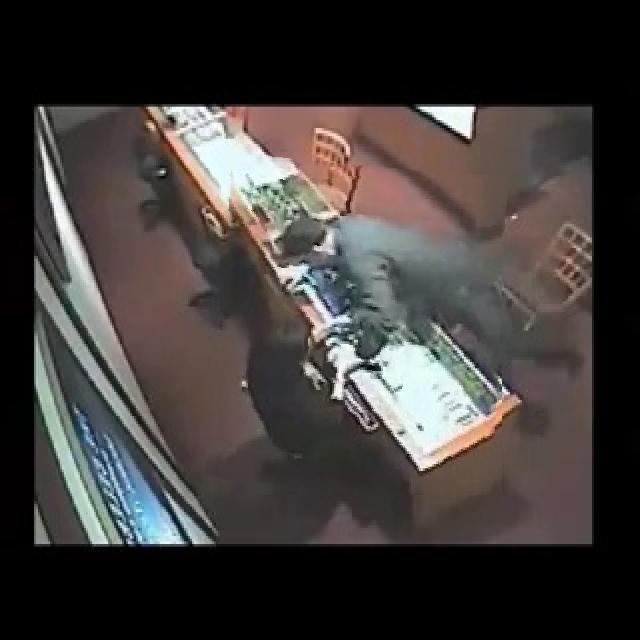Shoplifting: (210, 158, 502, 495)
